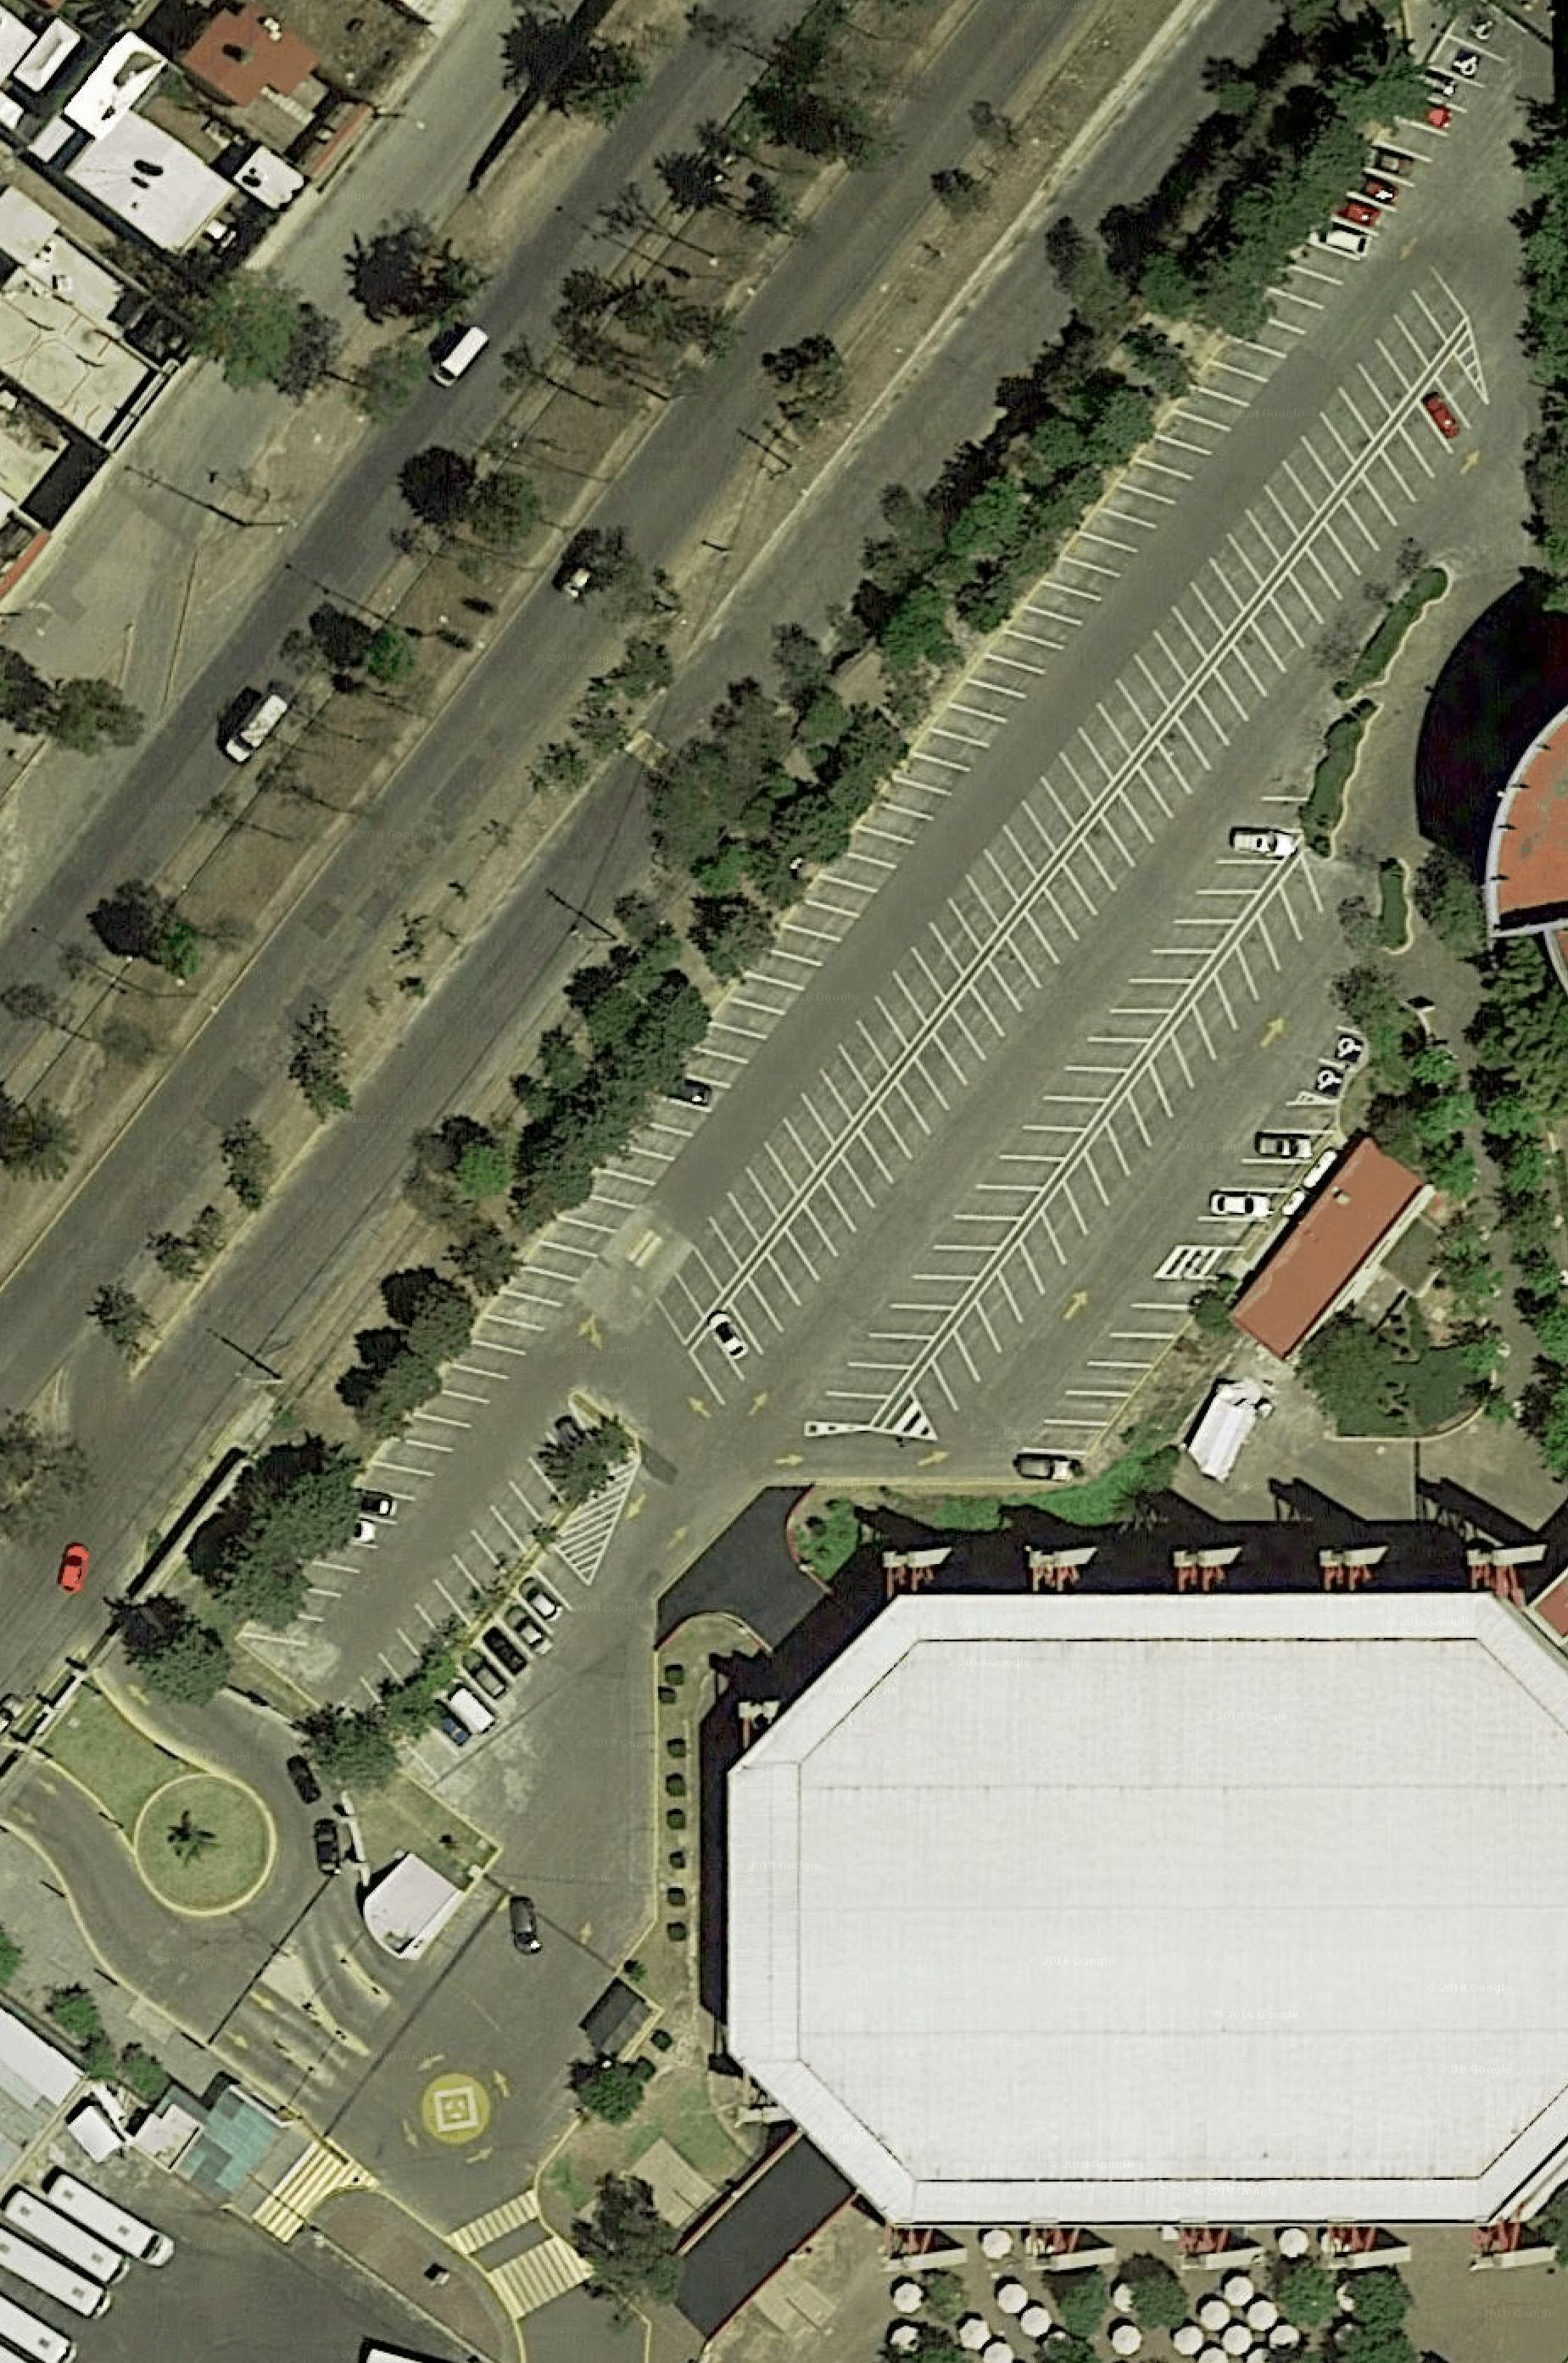parkingspot: (282, 32, 1559, 1708), (235, 0, 1530, 1649), (653, 263, 1470, 1348), (688, 347, 1491, 1409), (0, 1427, 767, 2361), (800, 795, 1311, 1430), (908, 852, 1325, 1446), (338, 1397, 588, 1717), (396, 1540, 595, 1785), (999, 1274, 1221, 1484), (1172, 1099, 1339, 1252), (1295, 1024, 1367, 1103)
